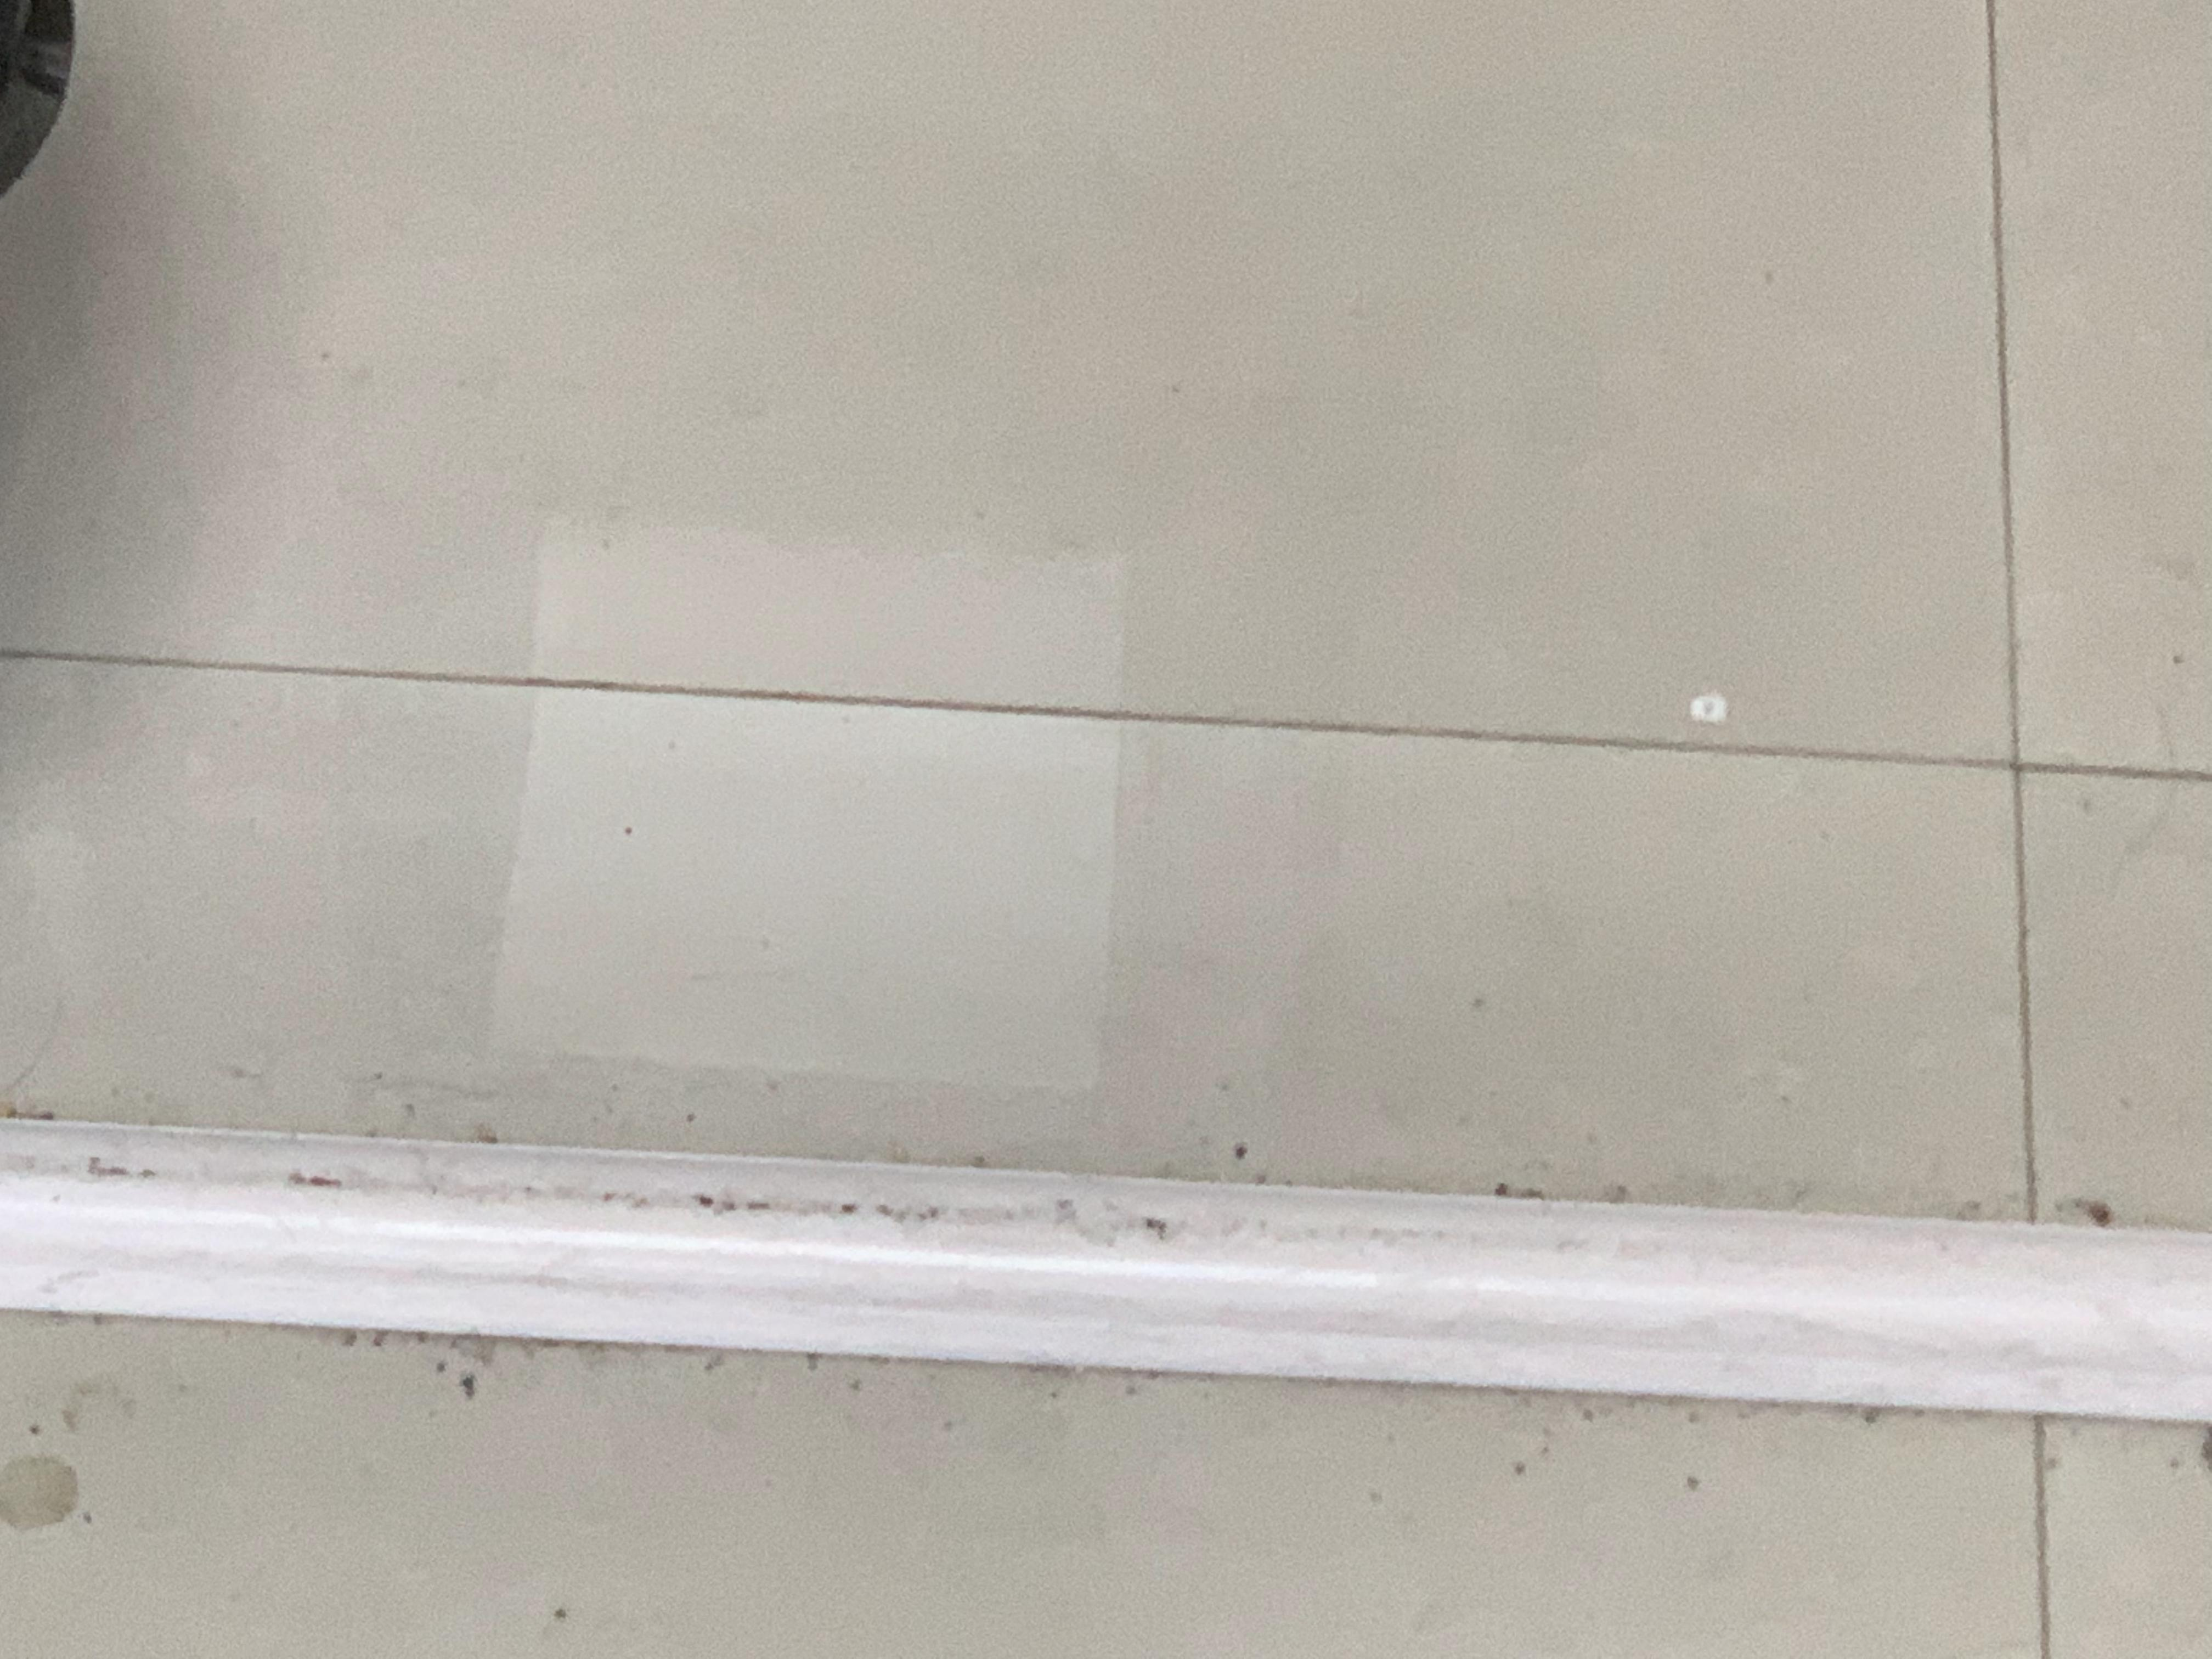reflection: (489, 518, 1122, 1096)
